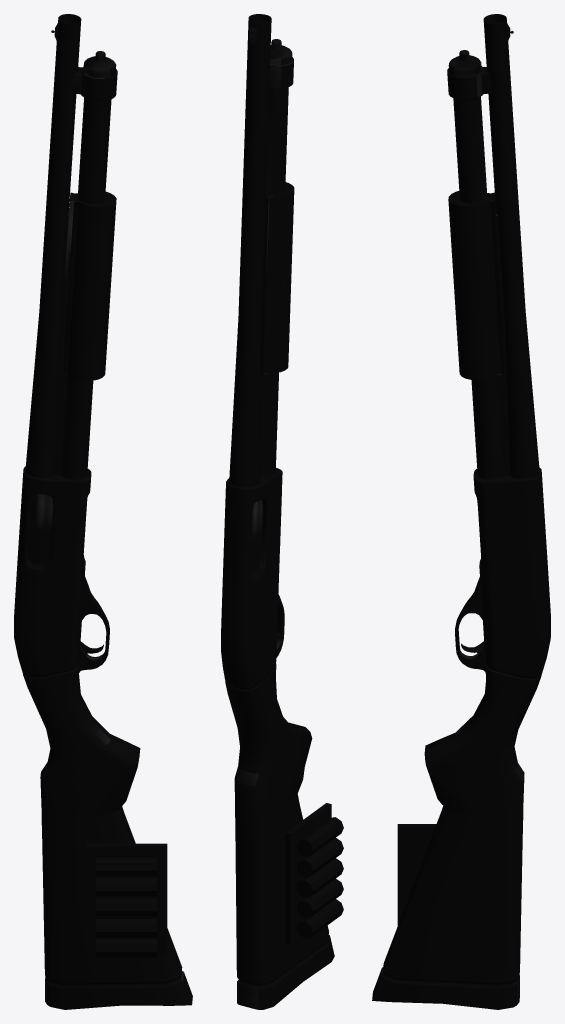
The model's file is Rem870__Mount_ScopeBase__ShellHolder_Butt.fbx.
The picture shows the model from 3 angles, left to right: view 1: azimuth 90°, elevation 25°; view 2: azimuth 150°, elevation 25°; view 3: azimuth 270°, elevation 25°; orthographic projection.
Visible parts, largest first — view 1: asset_Rem870.001; view 2: asset_Rem870.001; view 3: asset_Rem870.001.
Boxes of the visible parts, x1,y1,x2,y2 form: asset_Rem870.001: (14, 14, 192, 1009); asset_Rem870.001: (221, 14, 343, 1009); asset_Rem870.001: (372, 14, 550, 1009).
Bounding box in the file's own units: 0.0389 × 0.636 × 0.1048.
